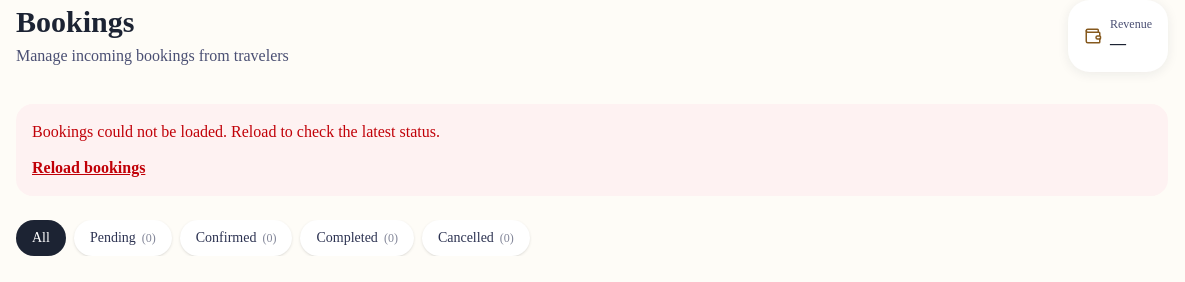
Test: distinguishes failed or malformed list responses from an empty business (503)
Expected: the message is shown, [16,104,1168,196]
Click the button "Reload bookings" at point(89, 168), box [32,156,145,180]
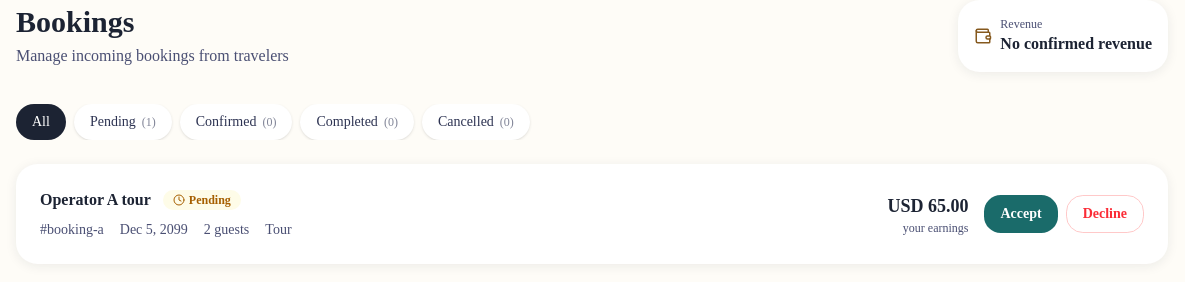
Result: the message is gone
